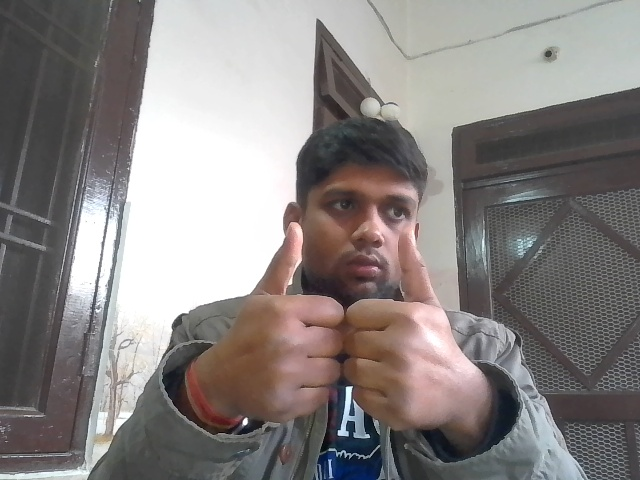Excellent: (218, 224, 472, 428)
